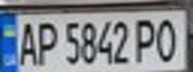2: (109, 16, 133, 65)
4: (96, 17, 115, 65)
5: (60, 18, 81, 65)
8: (78, 18, 100, 65)
A: (12, 17, 39, 68)
O: (151, 15, 184, 64)
P: (133, 15, 160, 64), (33, 18, 60, 66)
